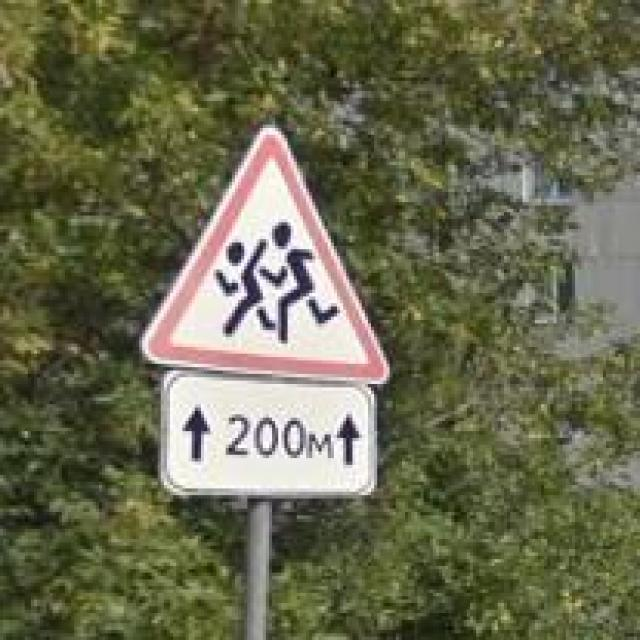Dzieci: (139, 125, 393, 387)
